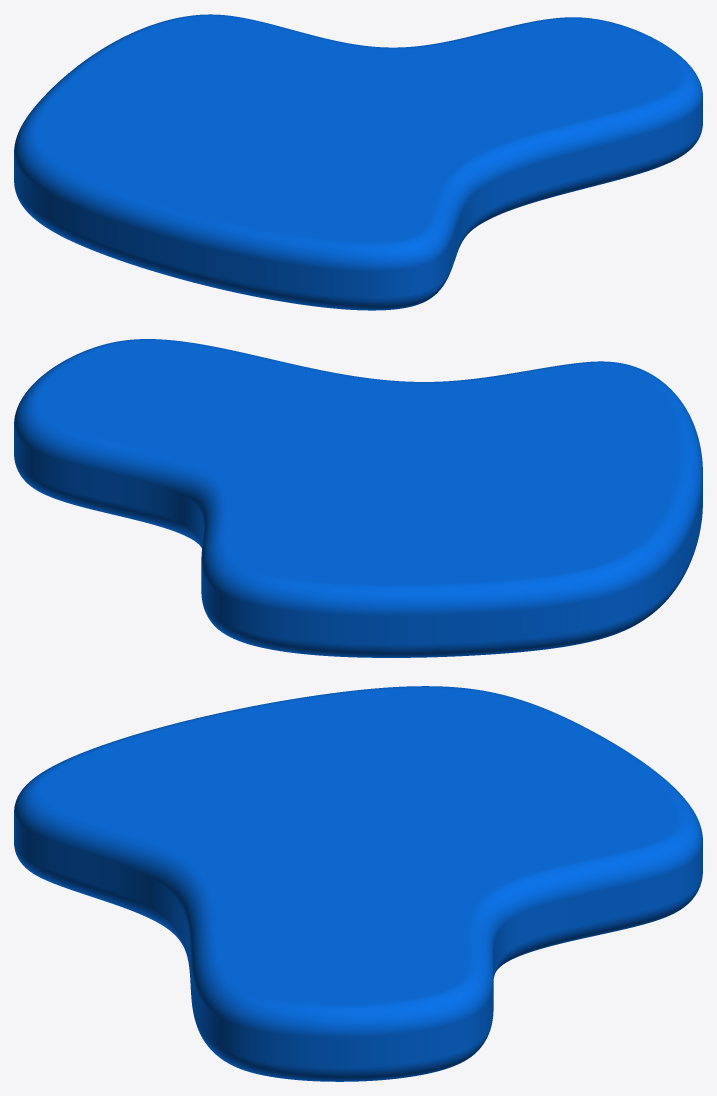
The model's file is WATER 2.fbx.
3 renders of one model, top to bottom at view 1: azimuth 30°, elevation 25°; view 2: azimuth 150°, elevation 25°; view 3: azimuth 270°, elevation 25°, orthographic. The views are drawn at different scales.
Visible parts, largest first — view 1: nÆ°á»c 2; view 2: nÆ°á»c 2; view 3: nÆ°á»c 2.
Boxes of the visible parts, x1=… form: nÆ°á»c 2: x1=14, y1=14, x2=702, y2=310; nÆ°á»c 2: x1=14, y1=339, x2=702, y2=657; nÆ°á»c 2: x1=14, y1=686, x2=702, y2=1081.
Bounding box in the file's own units: 96.01 × 10 × 82.99.
